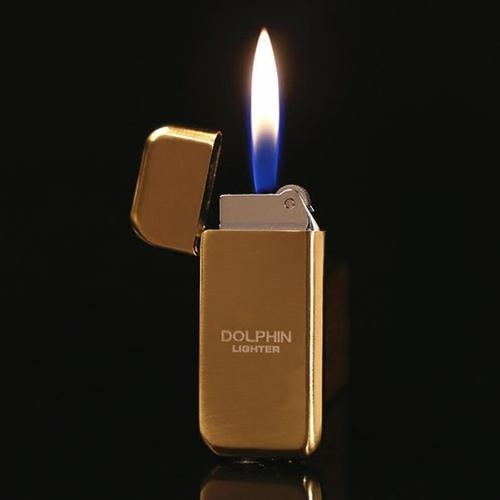fire: (248, 25, 282, 153)
